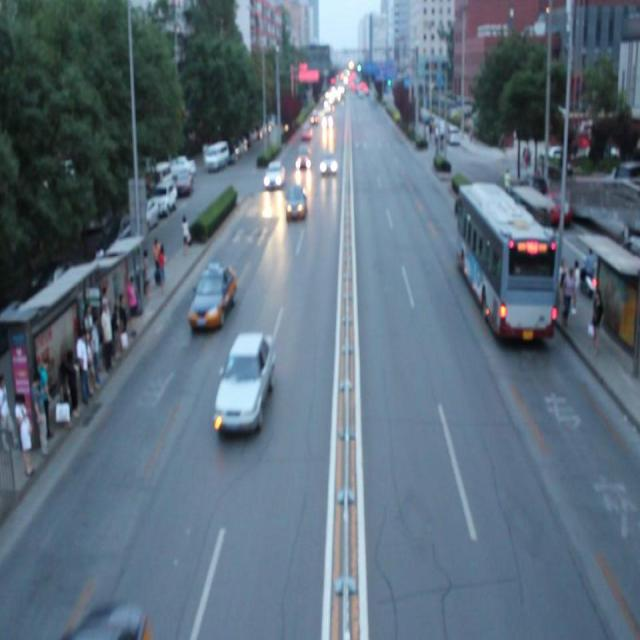car: (223, 328, 274, 438), (190, 256, 235, 334), (285, 184, 306, 222), (262, 157, 285, 190), (320, 152, 338, 178), (294, 144, 311, 170)
van: (454, 177, 556, 347)
